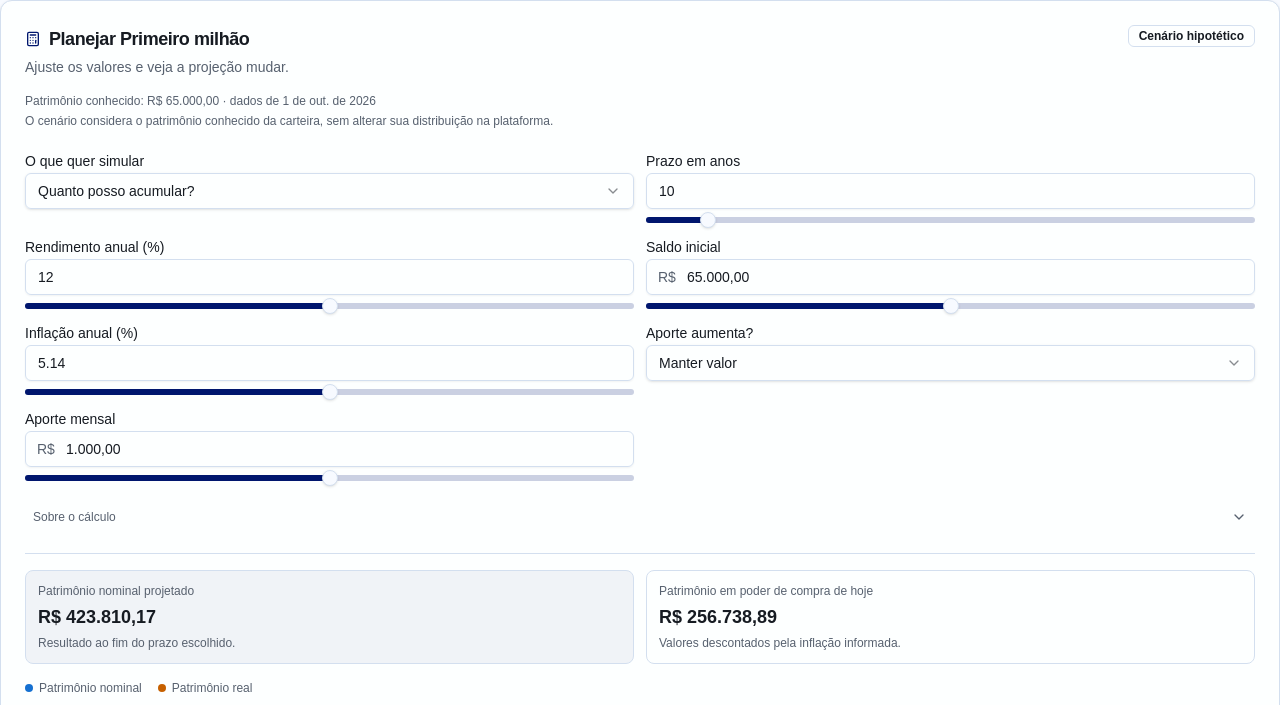
PortfolioObjectiveProjection › keeps the caret at the end while typing and calculates from the masked amount
The image size is (1280, 705).
Replace the text in the number field labelled "Prazo em anos" with "1": (950, 191) [646, 173, 1255, 209]
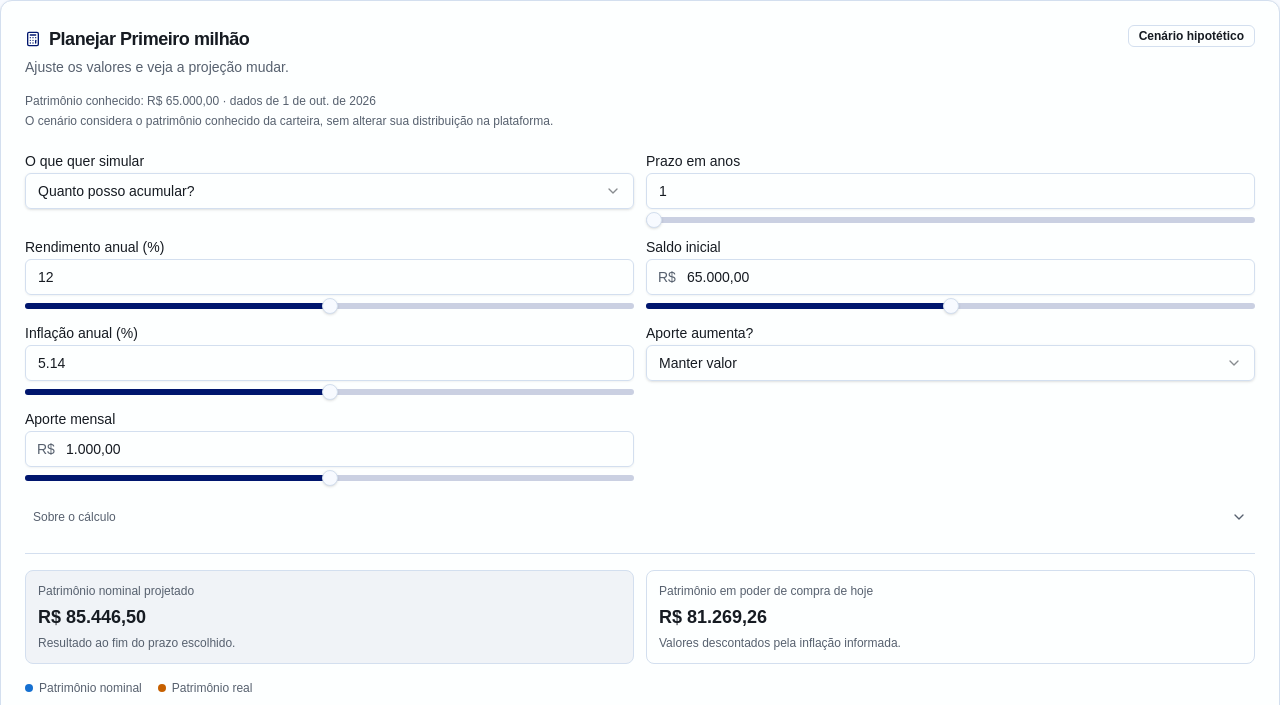
Replace the text in the number field labelled "Rendimento anual (%)" with "0": (330, 277) [25, 259, 634, 295]
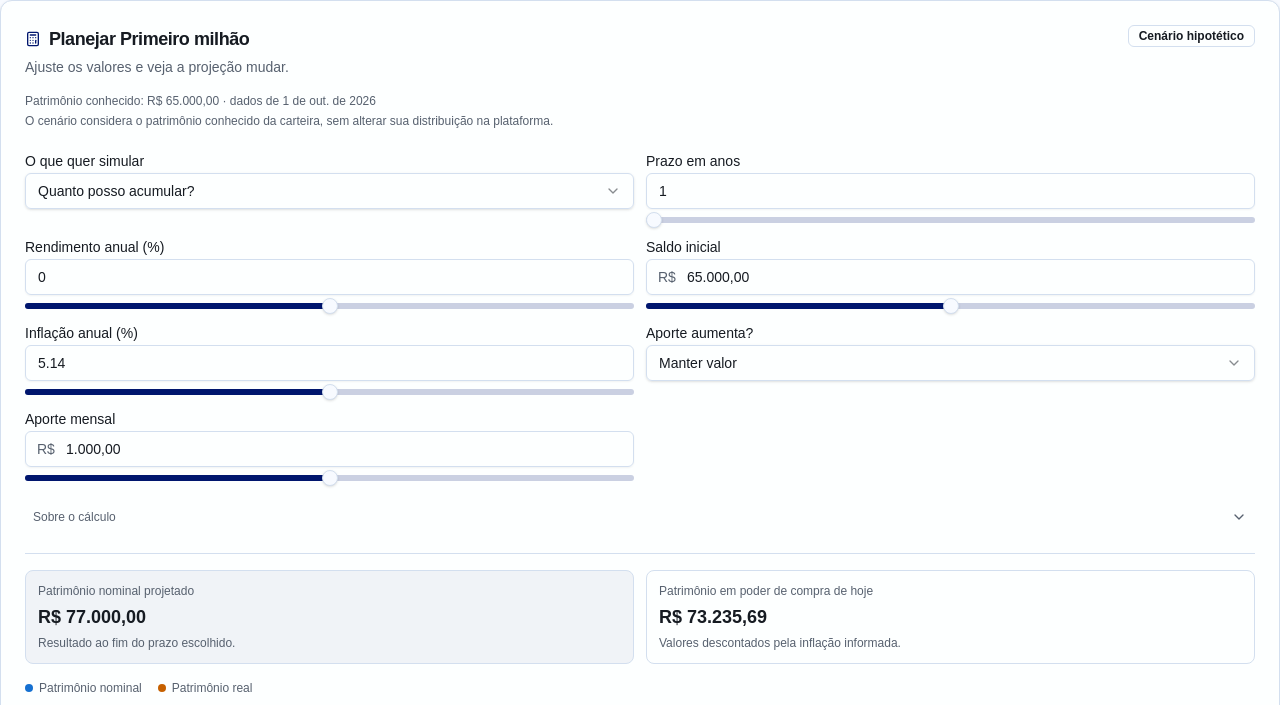
Replace the text in the number field labelled "Inflação anual (%)" with "0": (330, 363) [25, 345, 634, 381]
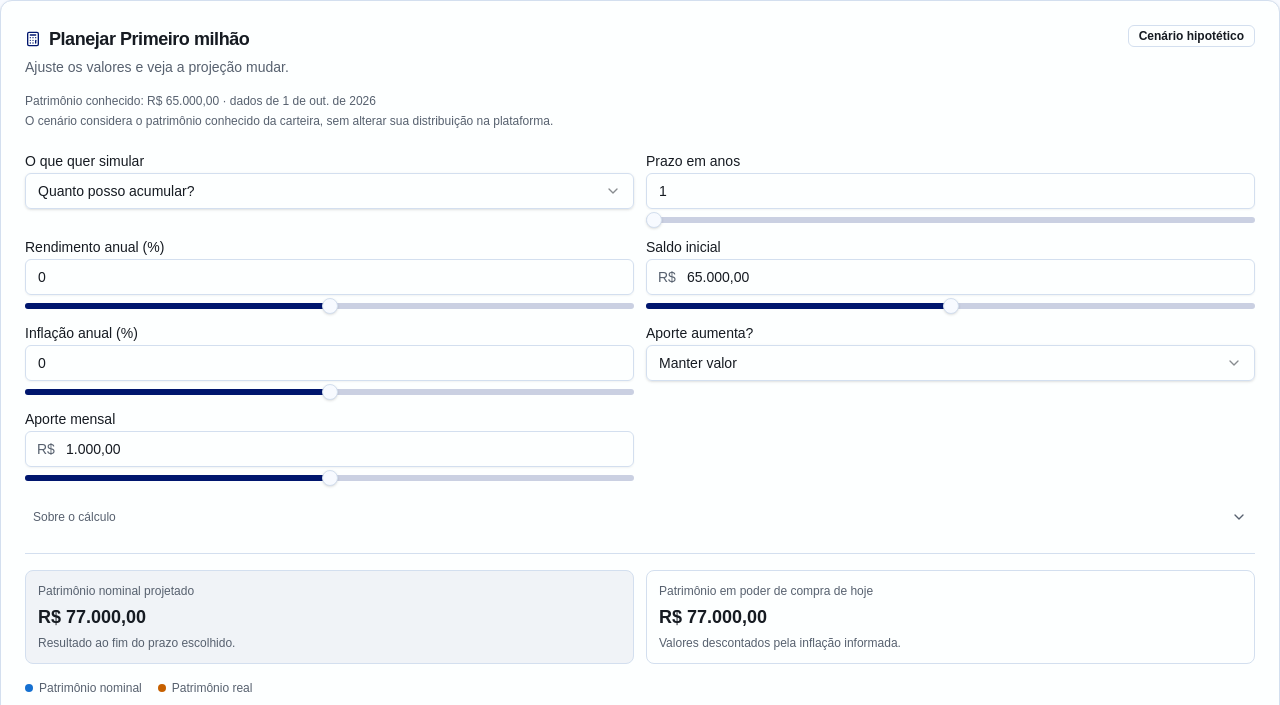
Replace the text in the field labelled "Saldo inicial" with "123456": (950, 277) [646, 259, 1255, 295]
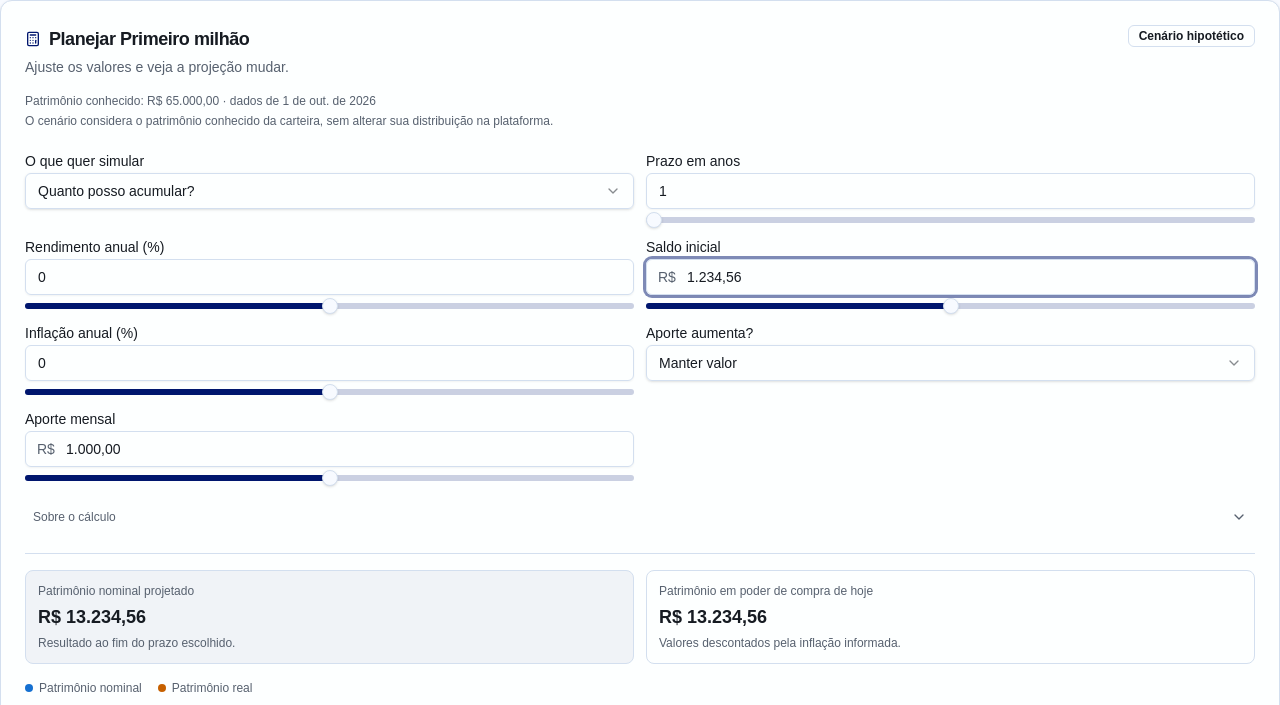
Expected: the field labelled "Saldo inicial" holds "1.234,56", [646, 259, 1255, 295]
